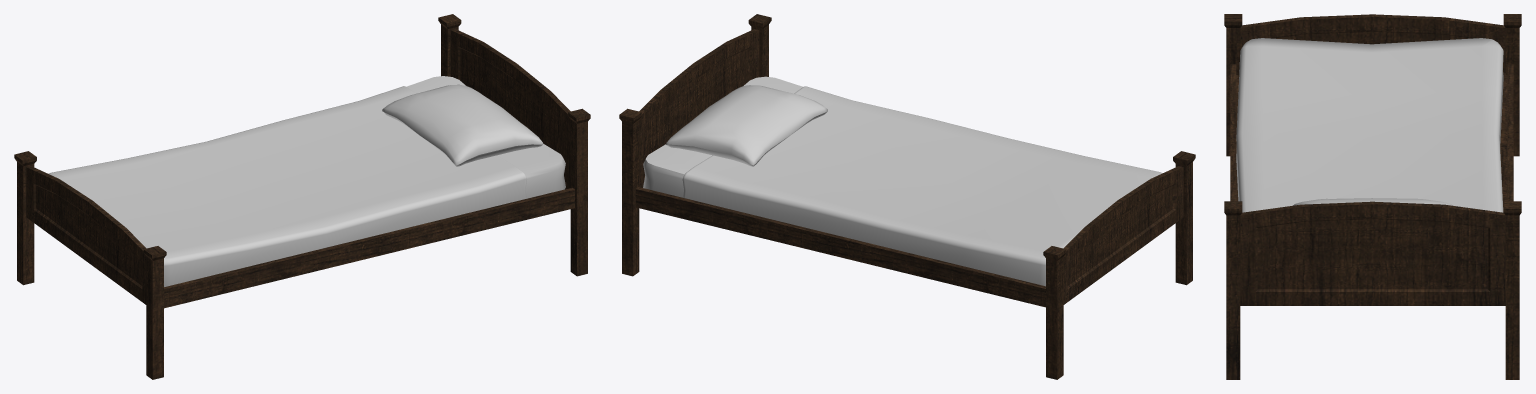
Rendered from bed_5_1.obj.
3 renders of one model, left to right at view 1: azimuth 30°, elevation 25°; view 2: azimuth 150°, elevation 25°; view 3: azimuth 270°, elevation 25°, orthographic. The views are drawn at different scales.
Visible parts, largest first — view 1: bed_5_1; view 2: bed_5_1; view 3: bed_5_1.
Boxes of the visible parts, <box> form: bed_5_1: <box>14,14,590,379</box>; bed_5_1: <box>619,14,1195,379</box>; bed_5_1: <box>1224,14,1521,379</box>.
Size of the model in its own units: 2.74 by 0.9621 by 1.49.
